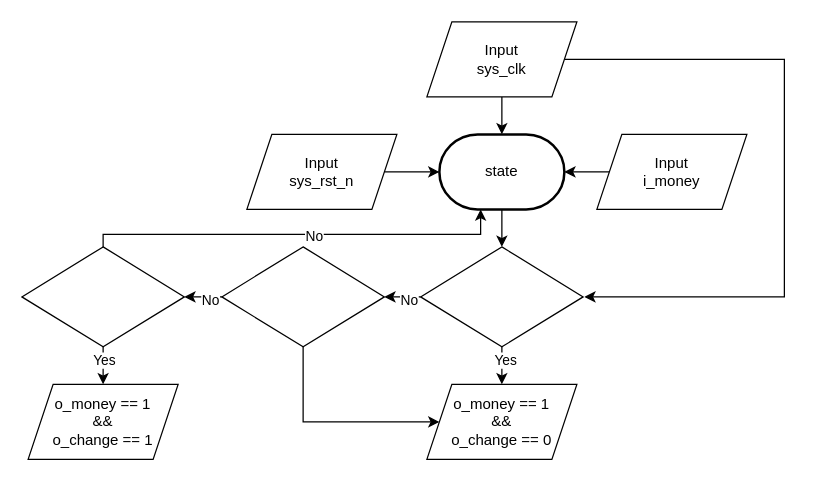
This 816x481 diagram has some shape labels left out. Each missing label, with the centre of its shape:
state == 4 && i_money == 2: the point at 501,296
state == 8 && i_money == 1: the point at 302,296
state == 8 && i_money == 2: the point at 102,296
